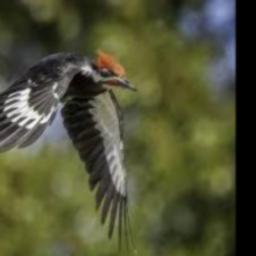Woodpecker: (0, 48, 137, 255)
